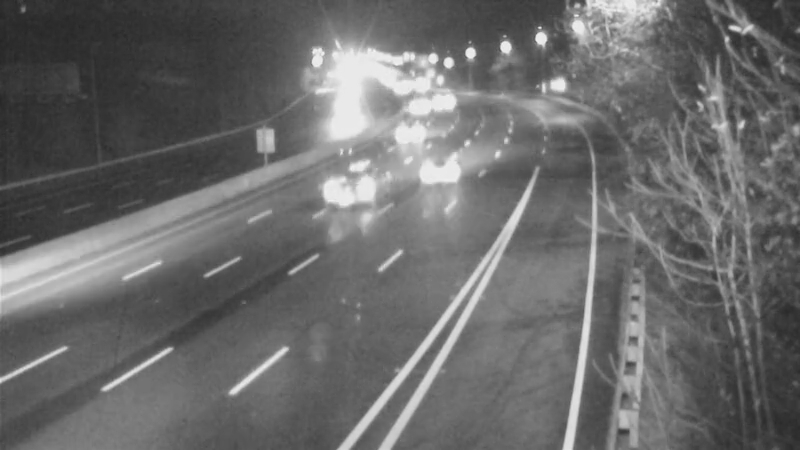vehicle: (405, 134, 485, 214), (312, 142, 392, 222), (397, 59, 447, 109), (375, 62, 425, 112), (419, 78, 469, 128), (394, 81, 444, 131), (383, 109, 433, 159), (320, 78, 370, 128)
